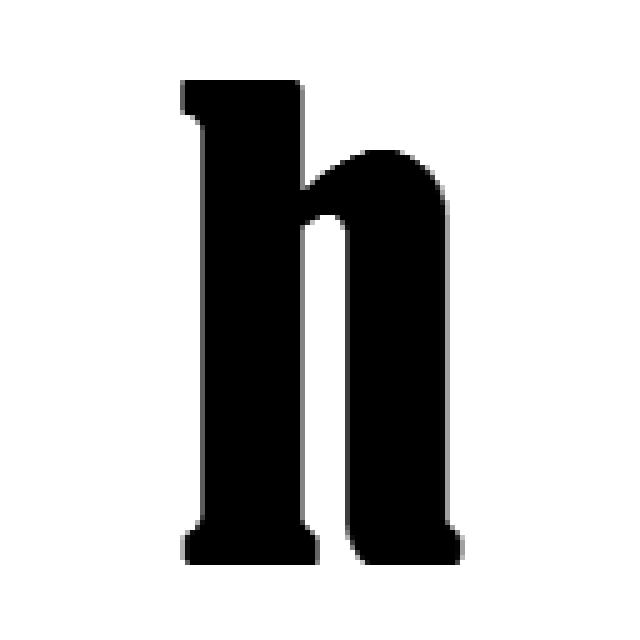H: (180, 80, 465, 570)
